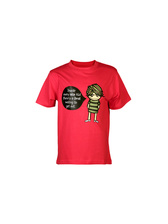clothoes: (37, 61, 131, 172)
